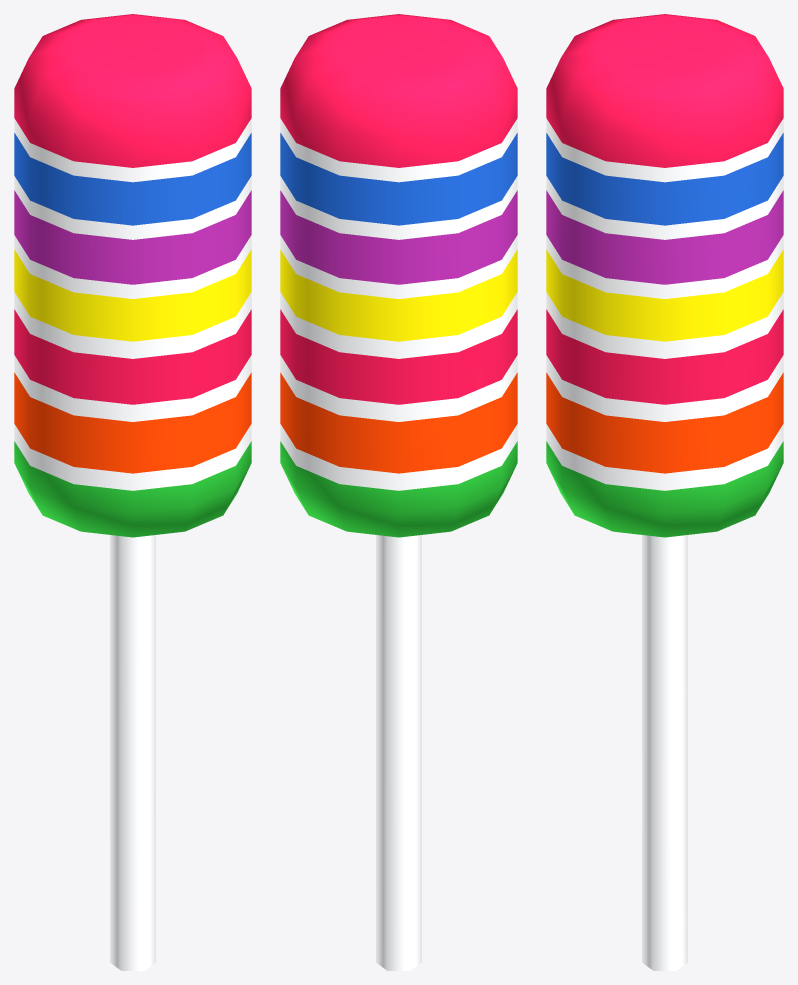
Rendered from Lollipop_15.glb.
3 views of the same model, side by side, from view 1: azimuth 30°, elevation 25°; view 2: azimuth 150°, elevation 25°; view 3: azimuth 270°, elevation 25° (orthographic).
Visible parts, largest first — view 1: Lollipop_15; view 2: Lollipop_15; view 3: Lollipop_15.
Part boxes in pixels (x1,y1,x2,y2): Lollipop_15: (14,14,251,970); Lollipop_15: (280,14,517,970); Lollipop_15: (546,14,783,970).
Bounding box in the file's own units: 1.17 × 5 × 1.17.
Materials: 1 (1 with a texture image).
